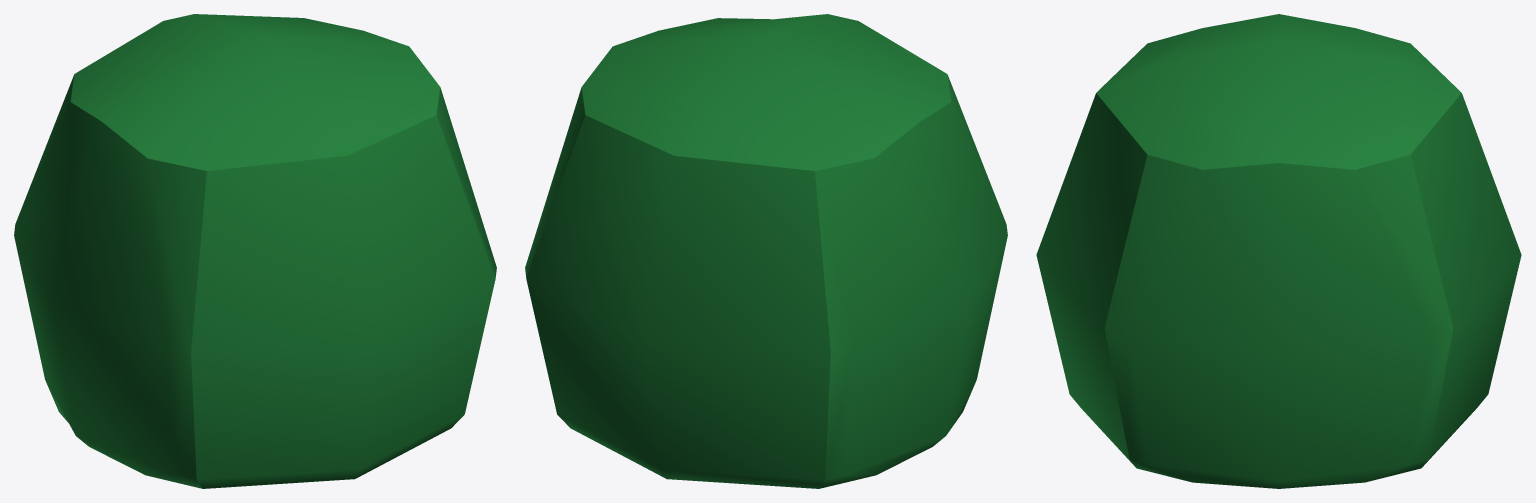
Rendered from bush_plain.glb.
3 views of the same model, side by side, from view 1: azimuth 30°, elevation 25°; view 2: azimuth 150°, elevation 25°; view 3: azimuth 270°, elevation 25° (orthographic).
Visible parts, largest first — view 1: bush_geo1; view 2: bush_geo1; view 3: bush_geo1.
Boxes of the visible parts, x1,y1,x2,y2 form: bush_geo1: (14, 14, 496, 488); bush_geo1: (525, 14, 1007, 488); bush_geo1: (1036, 14, 1521, 488).
Bounding box in the file's own units: 0.4936 × 0.4357 × 0.5119.
1 material, 1 textured.
